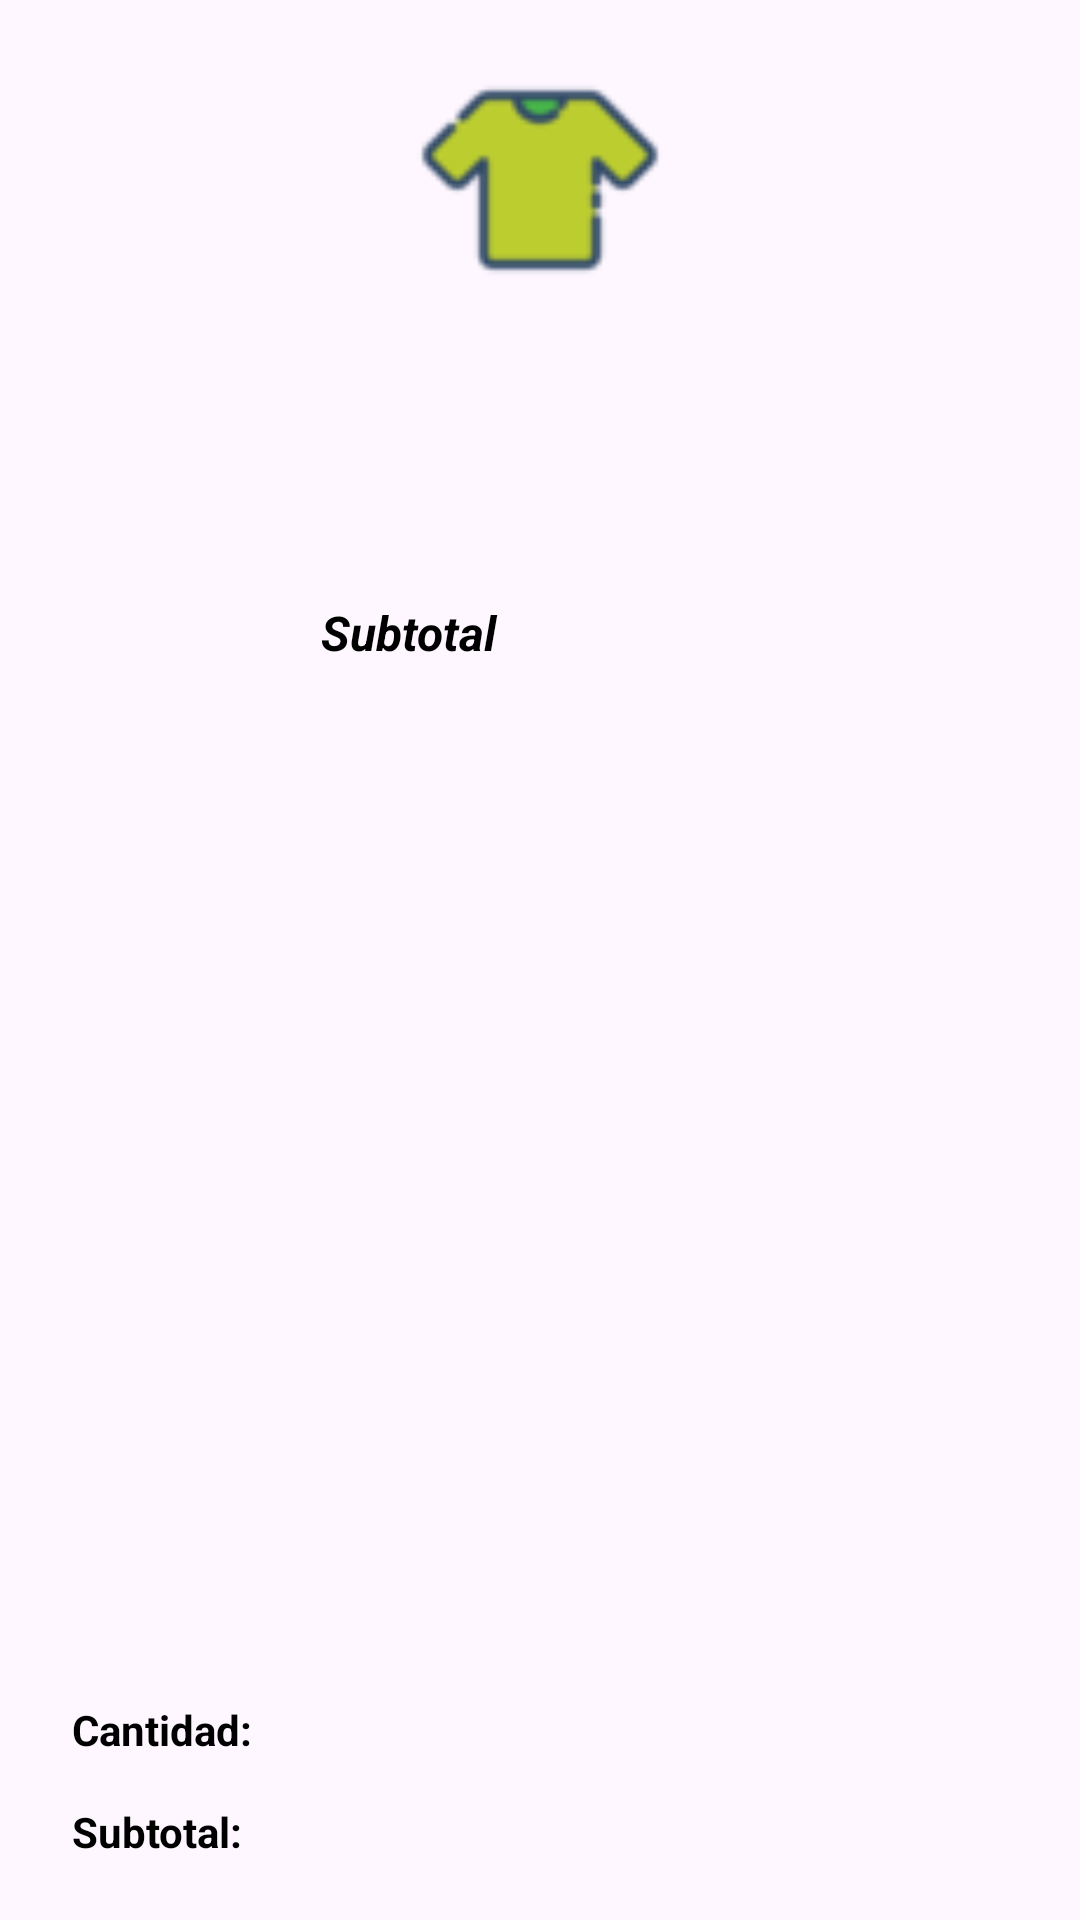

Screen size 1080×1920. Icon name, then its box in pixels as (x1, y1, x2, y2):
ropapredeterminada: (421, 89, 659, 271)
